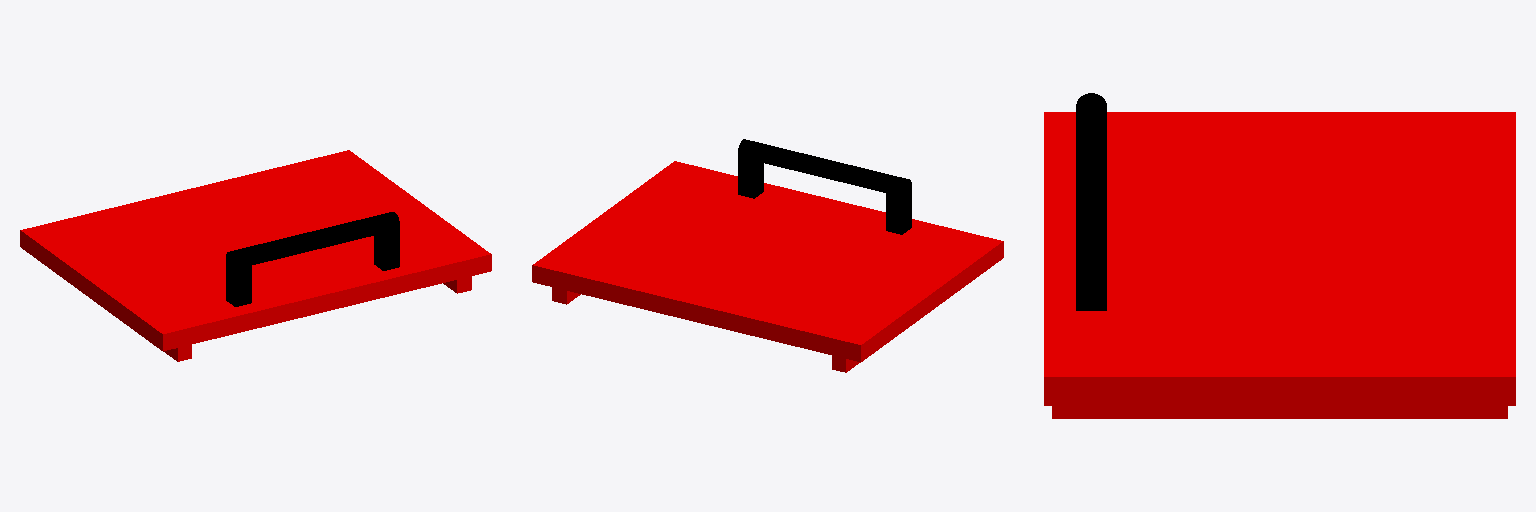
URDF robot description (hatch_door):
<?xml version="1.0" encoding="utf-8"?>
<!-- This URDF was automatically created by SolidWorks to URDF Exporter! Originally created by [author] ([email redacted]) 
     Commit Version: 1.6.0-1-g15f4949  Build Version: 1.6.7594.29634
     For more information, please see http://wiki.ros.org/sw_urdf_exporter -->

<robot name="hatch_door">
  <material name="red_color">
      <color rgba="1 0 0 1"/>
  </material>
  <material name="black_color">
    <color rgba="0 0 0 1"/>
  </material>
  <link name="door_link">
    <collision>
      <origin xyz="0 0 0" rpy="0 0 0" />
      <geometry>
        <box size="0.4 0.3 0.02"/>
      </geometry>
    </collision>

    <collision>
        <origin xyz="0.17 0 -0.019" rpy="0 0 0" />
        <geometry>
            <box size="0.018 0.29 0.02"/>
        </geometry>
    </collision>

    <collision>
        <origin xyz="-0.17 0 -0.019" rpy="0 0 0" />
        <geometry>
            <box size="0.018 0.29 0.02"/>
        </geometry>
    </collision>

    <visual>
      <origin xyz="0 0 0" rpy="0 0 0" />
      <geometry>
        <box size="0.4 0.3 0.02"/>
      </geometry>
      <material name="red_color"/>
    </visual>

    <visual>
        <origin xyz="0.17 0 -0.019" rpy="0 0 0" />
        <geometry>
            <box size="0.018 0.29 0.02"/>
        </geometry>
        <material name="red_color"/>
    </visual>

    <visual>
        <origin xyz="-0.17 0 -0.019" rpy="0 0 0" />
        <geometry>
            <box size="0.018 0.29 0.02"/>
        </geometry>
        <material name="red_color"/>
    </visual>

    <inertial>
      <origin xyz="0 0 0.0" rpy="0 0 0" />
      <mass value="50" />
      <inertia ixx="1" ixy="0.0" ixz="0.0"
                       iyy="1"   iyz="0.0"
                                 izz="1" />
    </inertial>
  </link>

  <link name="handle_link">
    <inertial>
      <origin xyz="0 0 0.0" rpy="0 0 0" />
      <mass value="0.2" />
      <inertia ixx="0.00067" ixy="0.0"     ixz="0.0"
                             iyy="0.00071" iyz="0.0"
                                           izz="0.000048" />
    </inertial>

    <collision>
      <origin xyz="-0.05 0 0" rpy="0 0 0" />
      <geometry>
        <cylinder radius="0.01" length="0.2"/>
      </geometry>
    </collision>

    <collision>
      <origin xyz="-0.025 0 0.09" rpy="0 0 0" />
      <geometry>
        <box size="0.05 0.02 0.02"/>
      </geometry>
    </collision>

    <collision>
      <origin xyz="-0.025 0 -0.09" rpy="0 0 0" />
      <geometry>
        <box size="0.05 0.02 0.02"/>
      </geometry>
    </collision>

    <visual>
      <origin xyz="-0.05 0 0" rpy="0 0 0" />
      <geometry>
        <cylinder radius="0.01" length="0.2"/>
      </geometry>
      <material name="black_color"/>
    </visual>

    <visual>
      <origin xyz="-0.025 0 0.09" rpy="0 0 0" />
      <geometry>
        <box size="0.05 0.02 0.02"/>
      </geometry>
      <material name="black_color"/>
    </visual>

    <visual>
      <origin xyz="-0.025 0 -0.09" rpy="0 0 0" />
      <geometry>
        <box size="0.05 0.02 0.02"/>
      </geometry>
      <material name="black_color"/>
    </visual>

  </link>

  <joint name="handle_joint" type="fixed">
    <origin xyz="0 -0.12 0.01" rpy="0 1.57 0" />
    <parent link="door_link" />
    <child link="handle_link" />
  </joint>
</robot>

--- What the picture shows (computed from the rendered views, not written in the file) ---
The picture shows the robot from 3 angles, left to right: view 1: azimuth 30°, elevation 25°; view 2: azimuth 150°, elevation 25°; view 3: azimuth 270°, elevation 25°; orthographic projection.
Model hatch_door with 2 links and 1 joints (1 fixed), rooted at door_link, posed all joints at 0.
Visible links, largest first — view 1: door_link, handle_link; view 2: door_link, handle_link; view 3: door_link, handle_link.
Link boxes in pixels (<box>): door_link: <box>20,150,491,361</box>; handle_link: <box>226,212,399,306</box>; door_link: <box>532,161,1003,372</box>; handle_link: <box>738,139,911,234</box>; door_link: <box>1044,112,1515,418</box>; handle_link: <box>1076,93,1106,310</box>.
Bounding box of the posed robot: 0.4 × 0.3 × 0.0991 m (x, y, z).
Geometry: primitives only (box / cylinder / sphere), no mesh files.